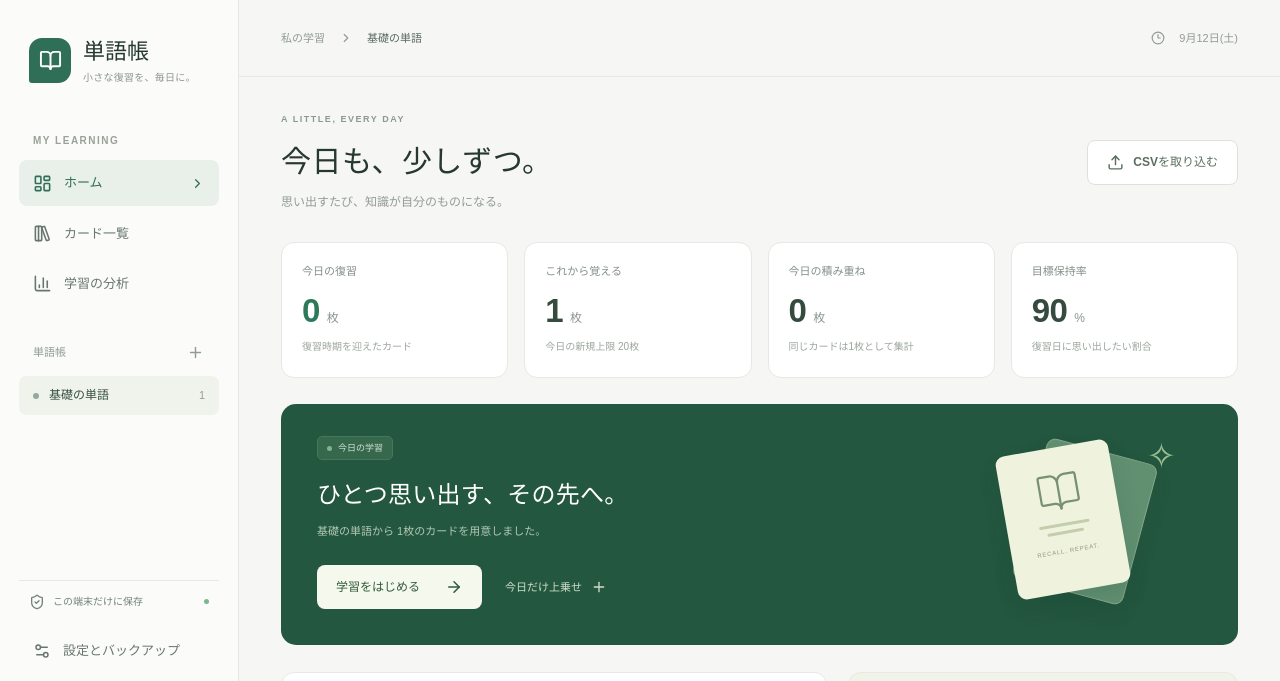
it: CSV choices and consolidation › warns when the previous ID matching mode cannot be inferred from the new layout
Click the button "CSVを取り込む" at (1163, 163), box [1087,140,1238,185]
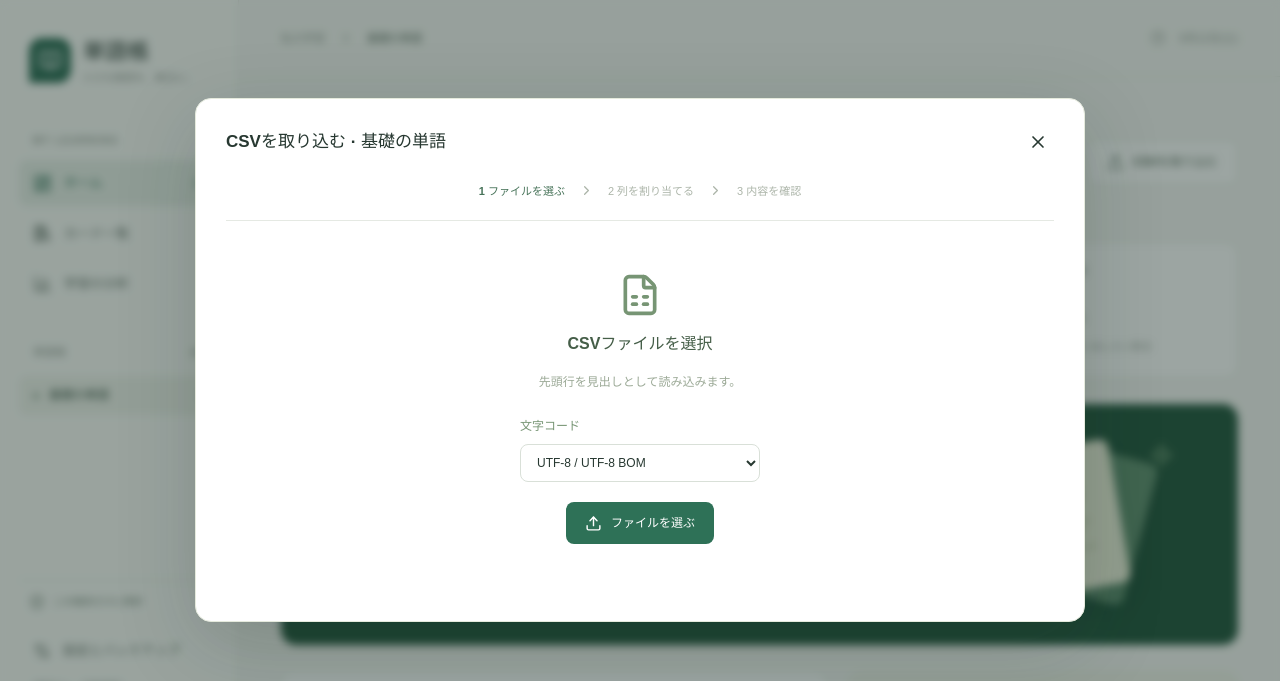
Click the button "ファイルを選ぶ" at (640, 523), box [566,502,714,544]
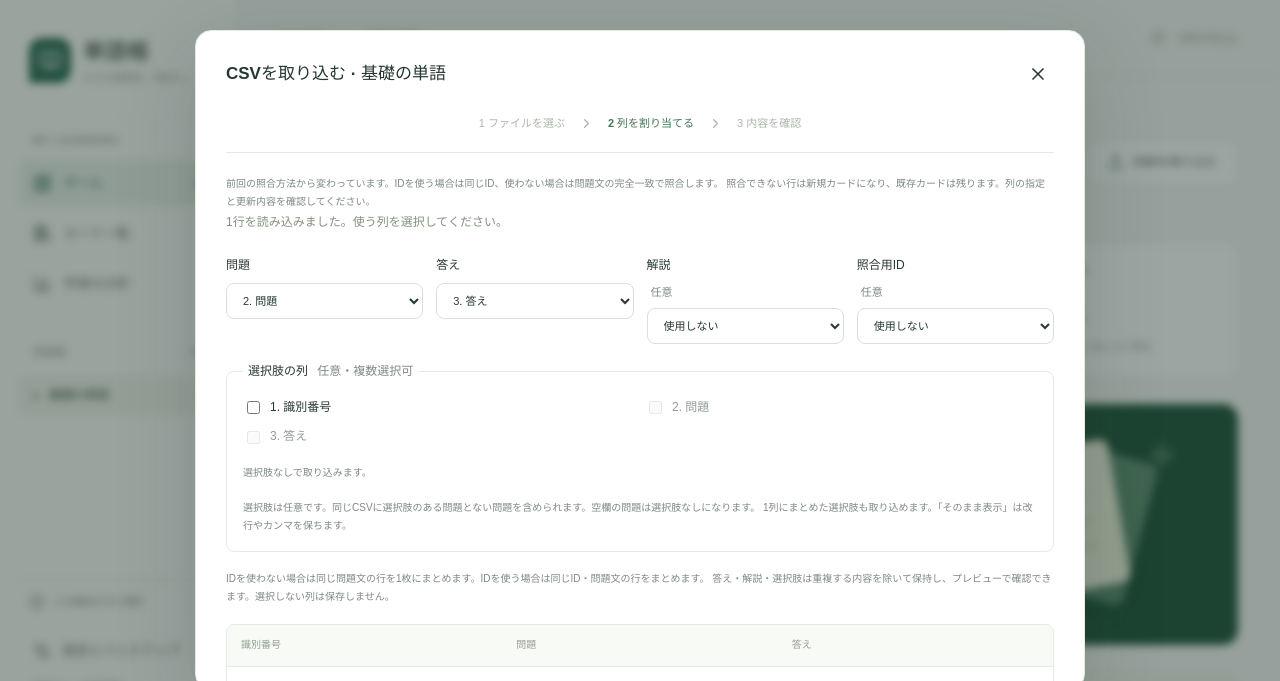
Check: the dropdown labelled "照合用ID 任意" shows "使用しない"
Check: the text "前回の照合方法から変わっています" is shown, box [226,178,1045,207]
Select "1. 識別番号" in the dropdown labelled "照合用ID 任意" at (955, 326), box [857,308,1054,344]
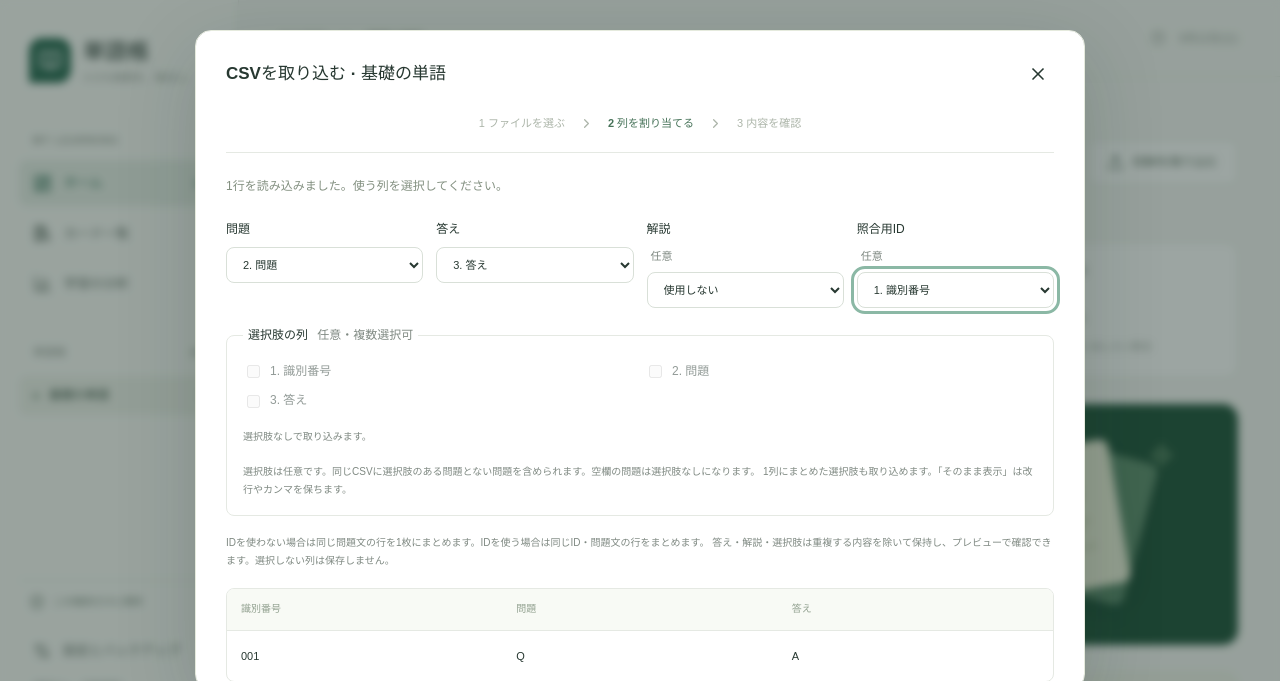
Check: the text "前回の照合方法から変わっています" is gone
